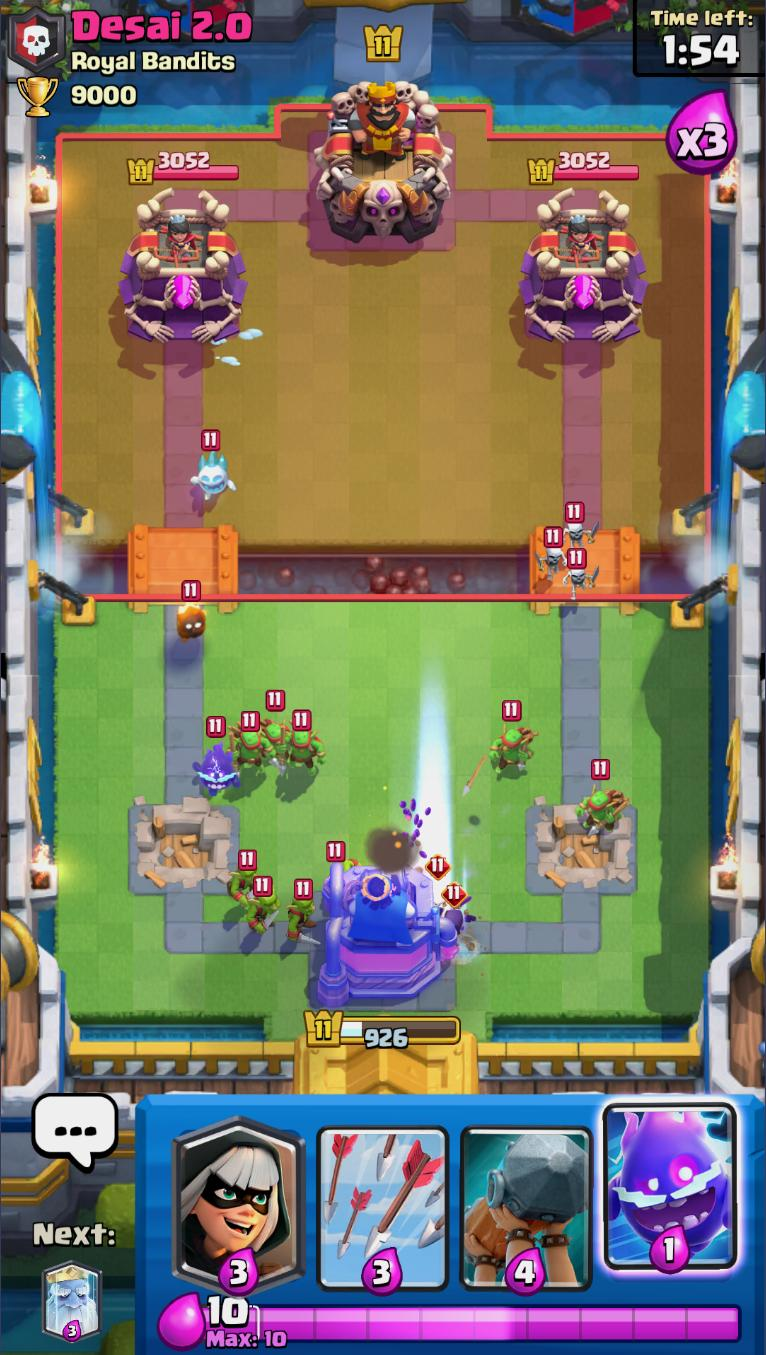ArrowDeck: (309, 1095, 458, 1296)
BanditDeck: (166, 1092, 313, 1295)
BattleRamDeck: (454, 1098, 600, 1294)
ElectroSpirit: (189, 715, 241, 798)
ElectroSpiritDeck: (595, 1095, 743, 1293)
Elixir: (202, 1296, 742, 1349)
EnemyTower: (122, 187, 250, 347), (520, 186, 648, 346)
EvoSkeleton: (438, 881, 469, 942)
FireSpirit: (172, 579, 209, 643)
Goblin: (281, 878, 322, 945), (240, 878, 285, 936), (221, 850, 264, 908)
IceSpirit: (185, 430, 234, 506)
KingTower: (315, 81, 455, 246)
MyKingHP: (301, 1007, 463, 1052)
MyKingTower: (302, 860, 461, 1009)
MyPrincessTowerBrocken: (522, 800, 643, 899), (124, 799, 242, 894)
PrincessTower: (158, 212, 205, 268), (555, 215, 605, 267)
RoyaleGhostNext: (41, 1260, 103, 1344)
Skeleton: (552, 502, 599, 553), (557, 550, 598, 607), (536, 525, 569, 583)
SpearGoblin: (491, 701, 544, 781), (577, 760, 630, 837), (281, 712, 324, 784), (226, 712, 267, 781), (253, 689, 293, 756)
TowerPrincessHP: (524, 151, 641, 187), (128, 153, 242, 187)
